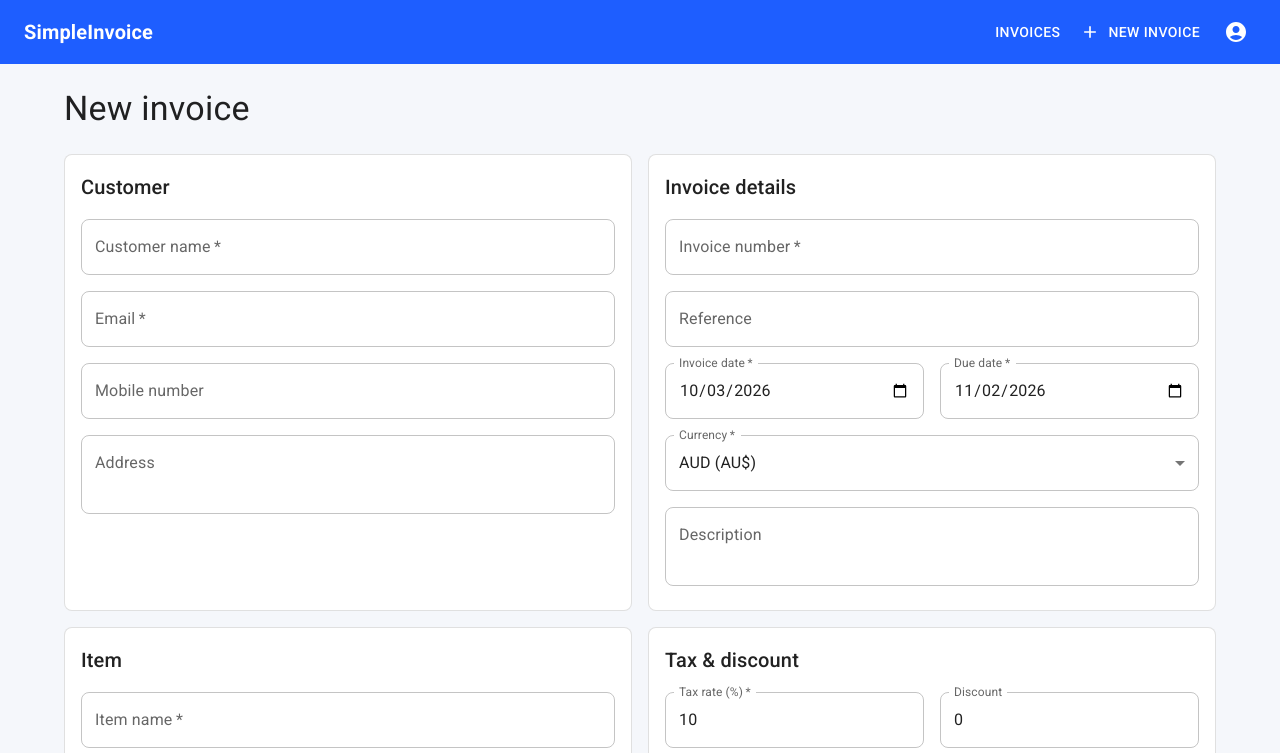
Test: session › logs out from the User menu
This screenshot has width=1280, height=753.
What coordinates should you click on to do the following:
click the button named "User menu"
I would click on:
 (1236, 32)
Its box is [1216, 12, 1256, 52].
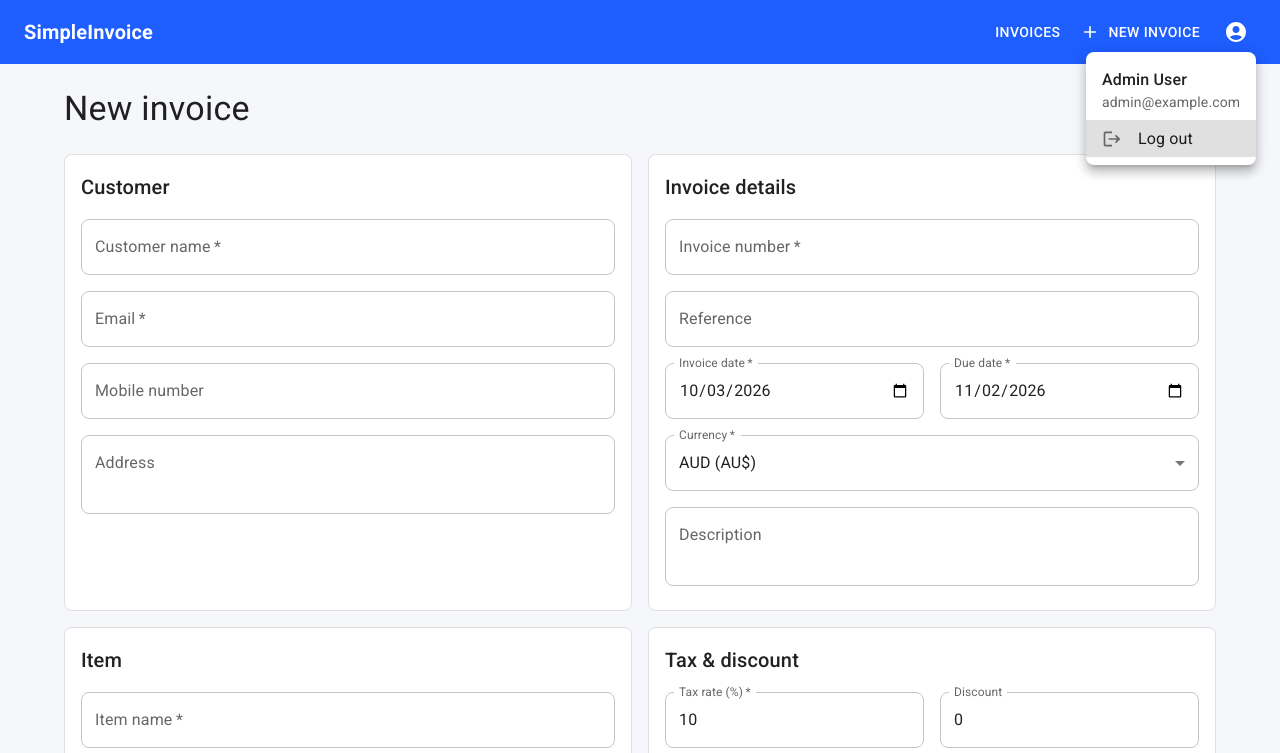
Now the text "Admin User" is shown, box [1102, 70, 1187, 89]
Now the text "admin@example.com" is shown, box [1102, 92, 1240, 112]
What coordinates should you click on to do the following:
click the menu item "Log out"
I would click on:
 (1171, 139)
Its box is [1086, 121, 1256, 157].
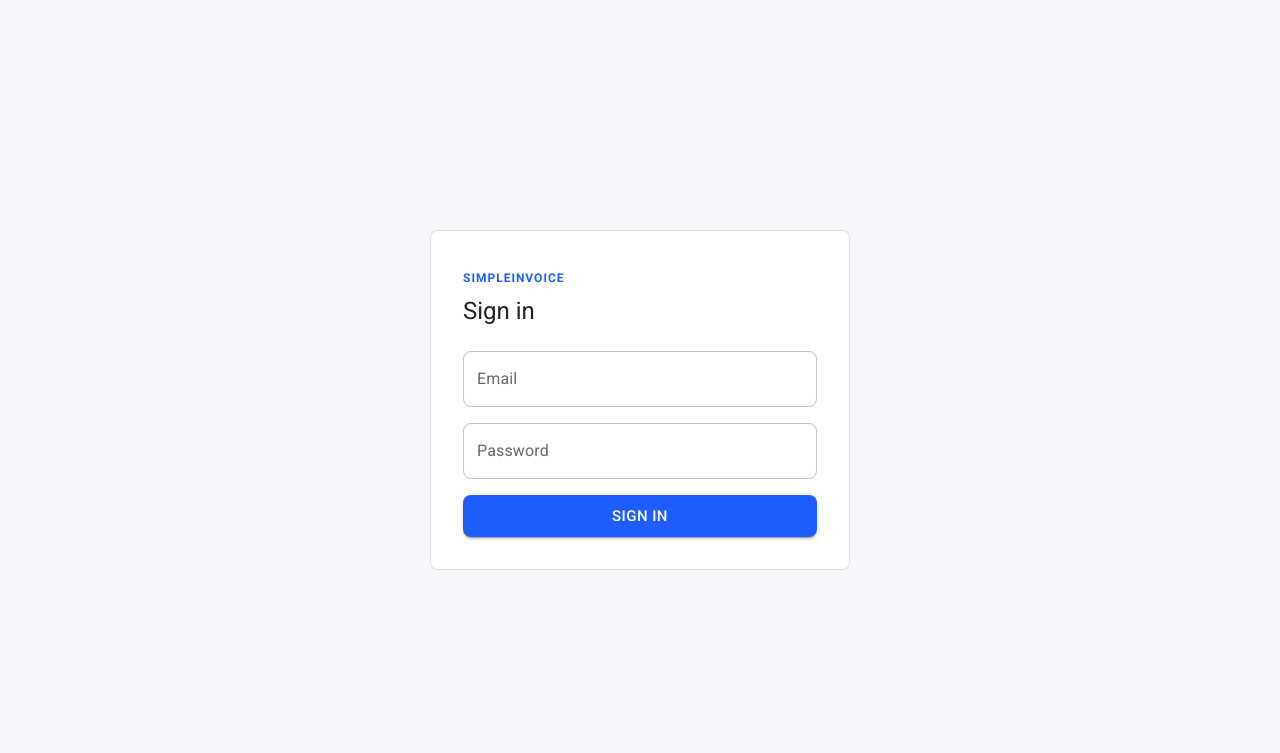
Now the heading "Sign in" is shown, box [463, 297, 535, 325]
